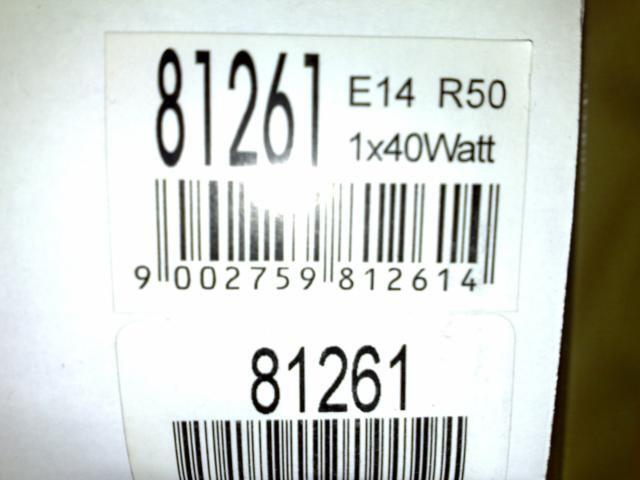Barcode: (121, 168, 515, 315)
